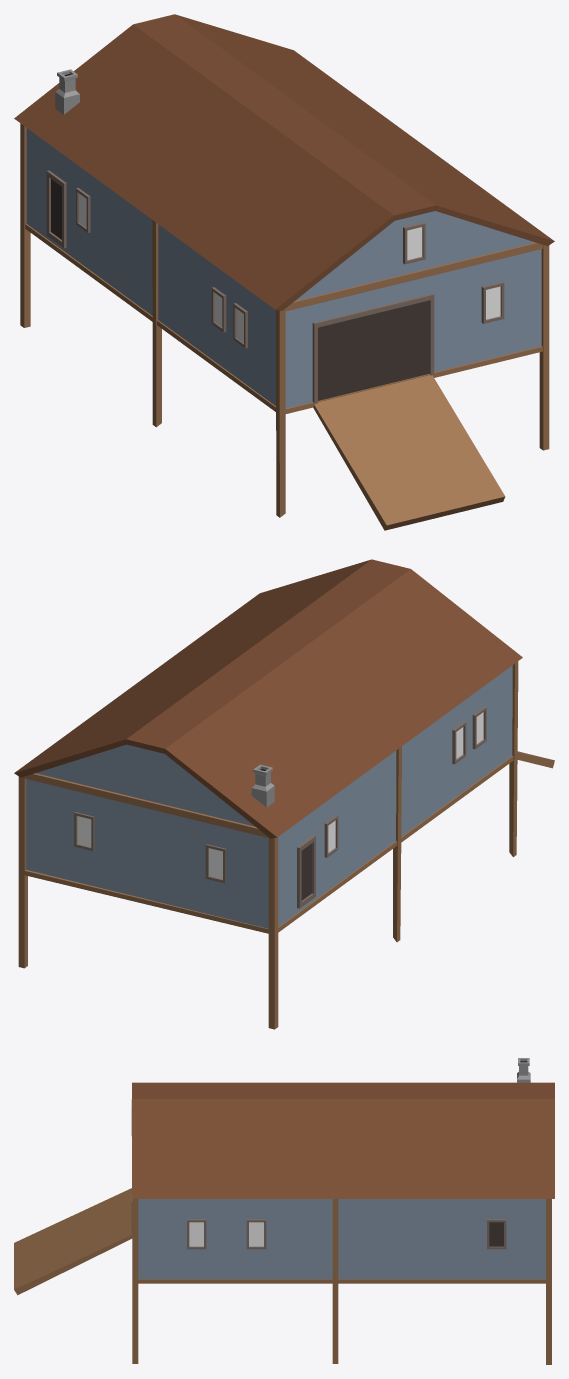
File: M_DockHouse_Building_2.fbx
The picture shows the model from 3 angles, top to bottom: view 1: azimuth 30°, elevation 25°; view 2: azimuth 150°, elevation 25°; view 3: azimuth 270°, elevation 25°; orthographic projection. The views are drawn at different scales.
Visible parts, largest first — view 1: M_DockHouse_Building_2; view 2: M_DockHouse_Building_2; view 3: M_DockHouse_Building_2.
Part boxes in pixels (x1=…): M_DockHouse_Building_2: x1=14, y1=14, x2=554, y2=530; M_DockHouse_Building_2: x1=14, y1=559, x2=554, y2=1029; M_DockHouse_Building_2: x1=14, y1=1058, x2=554, y2=1364.
Size of the model in its own units: 870 by 819 by 1799.
